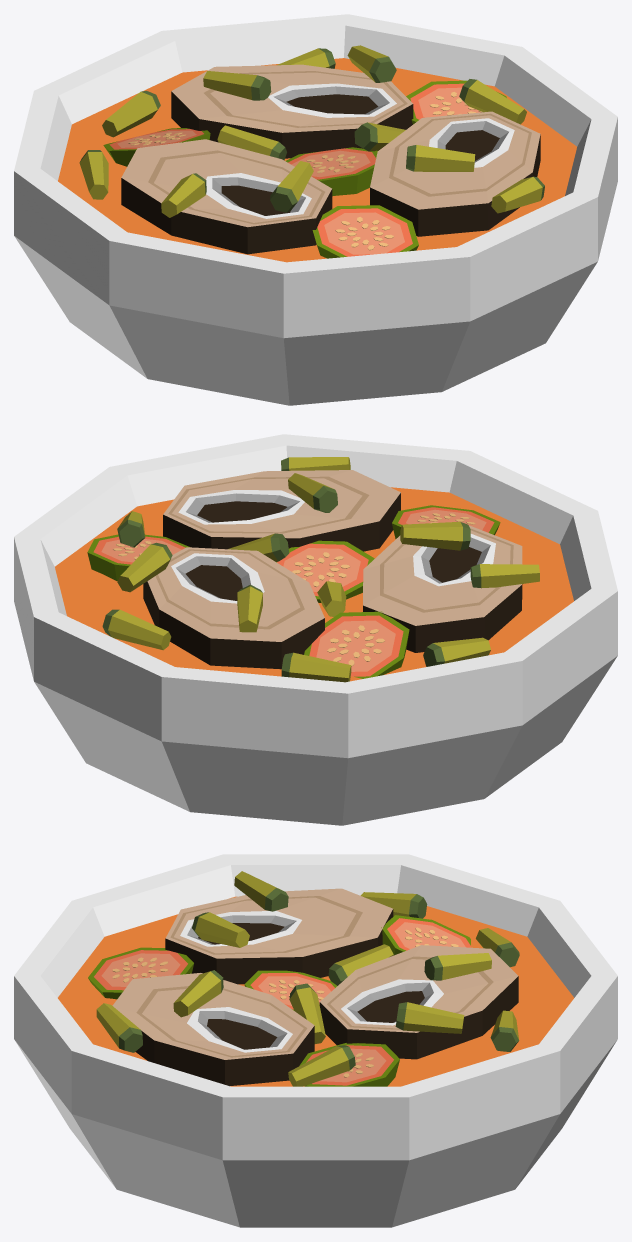
File: FINAL_Sinigang sa Bayabas.fbx
3 views of the same model, one above another, from view 1: azimuth 30°, elevation 25°; view 2: azimuth 150°, elevation 25°; view 3: azimuth 270°, elevation 25° (orthographic). The views are drawn at different scales.
Parts seen in each view (by area): view 1: Sinigang sa Bayabas; view 2: Sinigang sa Bayabas; view 3: Sinigang sa Bayabas.
Boxes of the visible parts, box(x1,y1,x2,y2) form: Sinigang sa Bayabas: box(14, 14, 617, 405); Sinigang sa Bayabas: box(14, 434, 617, 825); Sinigang sa Bayabas: box(14, 854, 617, 1227).
Bounding box in the file's own units: 105 × 43.69 × 110.
